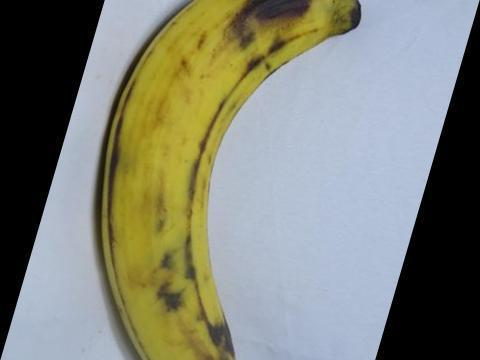ripe: (85, 0, 366, 359)
